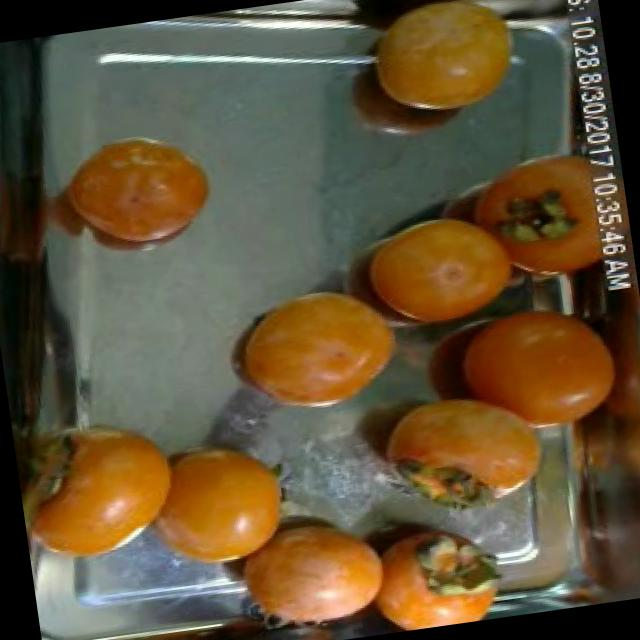Fruit: (200, 257, 431, 441), (106, 414, 318, 596), (10, 394, 204, 586), (355, 368, 576, 528), (336, 188, 548, 340), (41, 110, 233, 276), (204, 486, 407, 640), (346, 0, 544, 142)
